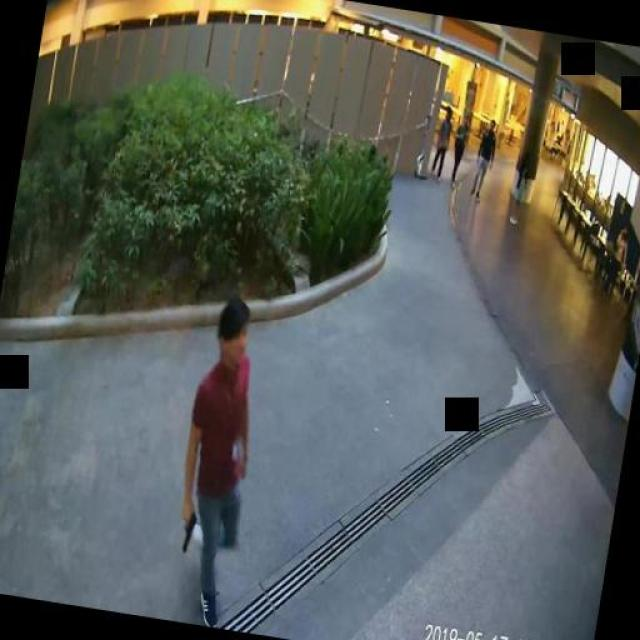gun: (174, 501, 198, 554)
